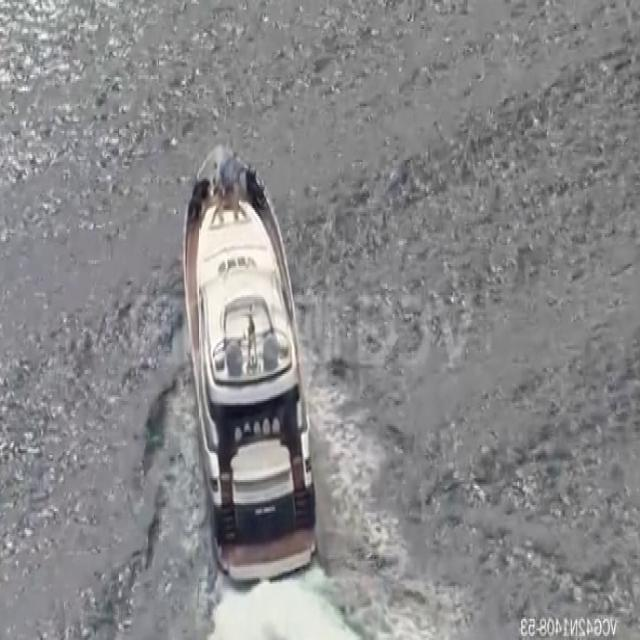houseboat: (180, 140, 320, 599)
